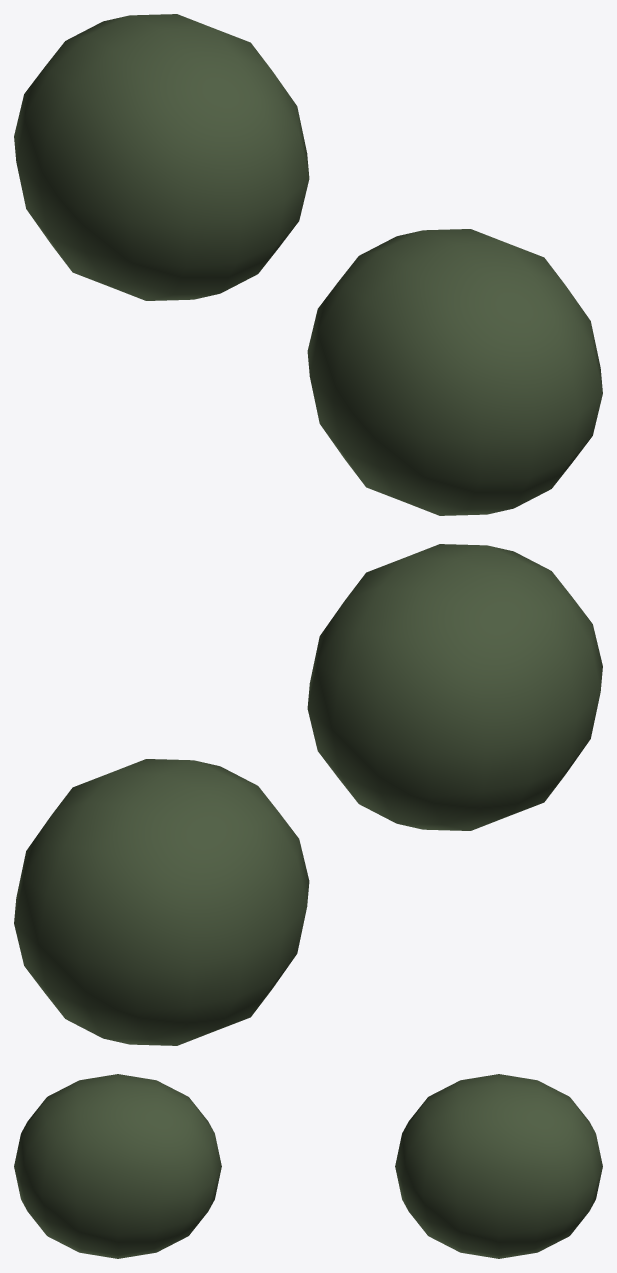
The picture shows the model from 3 angles, top to bottom: view 1: azimuth 30°, elevation 25°; view 2: azimuth 150°, elevation 25°; view 3: azimuth 270°, elevation 25°; orthographic projection. The views are drawn at different scales.
Visible parts, largest first — view 1: base.481; view 2: base.481; view 3: base.481.
Boxes of the visible parts, x1,y1,x2,y2 form: base.481: [14, 14, 602, 515]; base.481: [14, 544, 602, 1045]; base.481: [14, 1074, 602, 1258].
Size of the model in its own units: 0.1548 by 0.1548 by 0.5.
